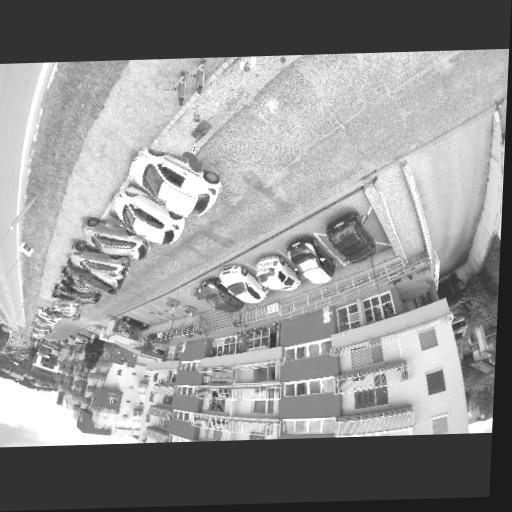busy: (127, 150, 227, 215), (105, 191, 190, 246), (325, 215, 378, 265), (85, 223, 149, 261), (70, 243, 134, 278), (288, 238, 336, 284), (217, 263, 269, 304), (254, 253, 303, 293), (66, 263, 125, 294), (56, 278, 107, 306), (198, 281, 242, 310), (49, 298, 83, 319), (116, 317, 145, 334)
free: (152, 308, 166, 318), (160, 301, 175, 310), (144, 311, 155, 322)
